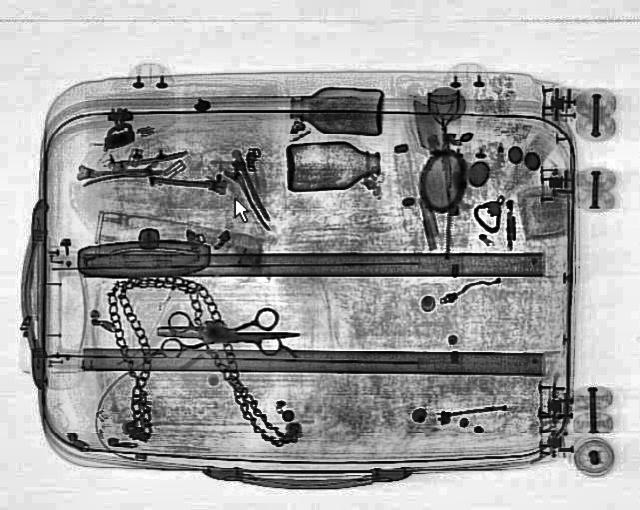Scissors: (158, 310, 298, 362), (154, 306, 284, 356)
